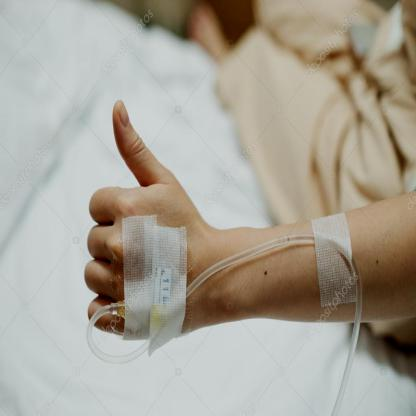Thumbs up: (52, 83, 229, 360)
